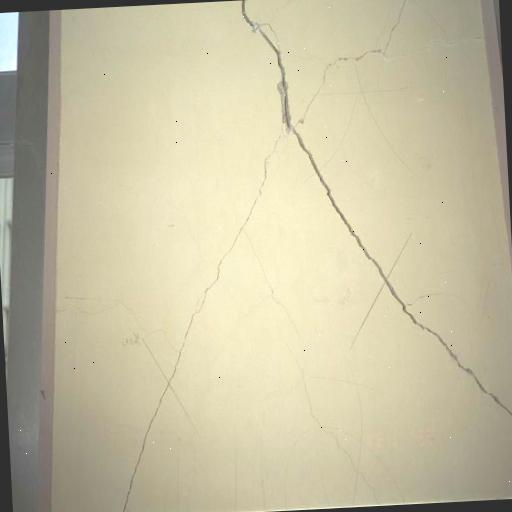spalling: (235, 6, 512, 426), (114, 159, 272, 512)
